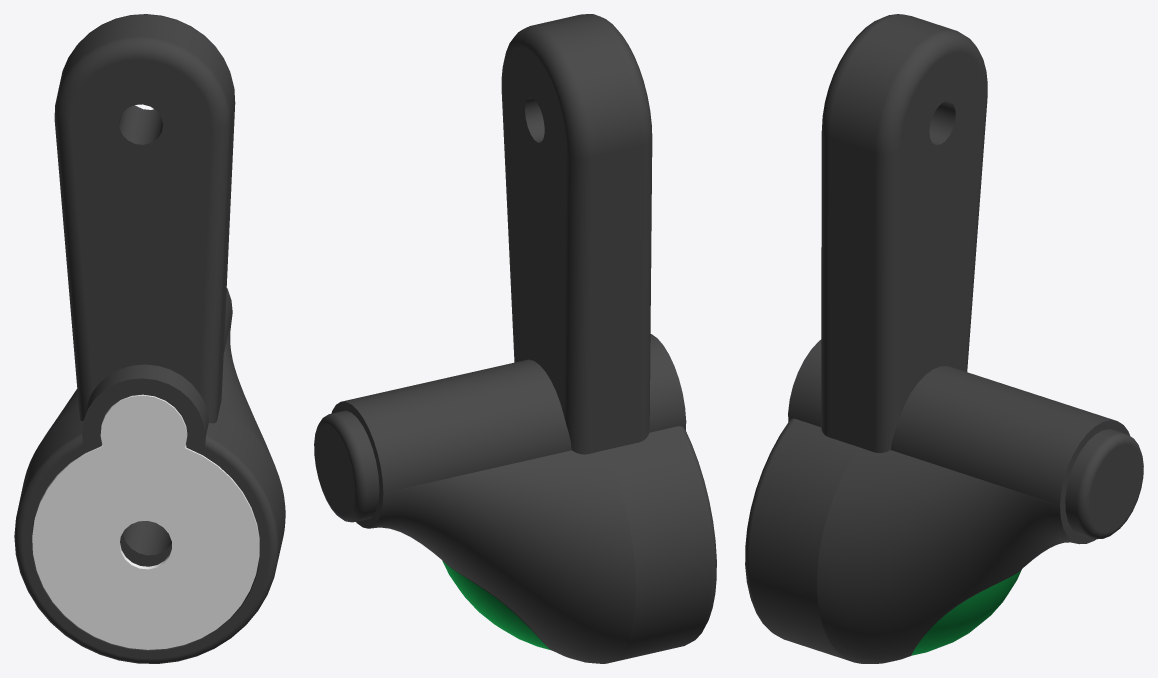
File: Leg.gltf
The picture shows the model from 3 angles, left to right: view 1: azimuth 30°, elevation 25°; view 2: azimuth 150°, elevation 25°; view 3: azimuth 270°, elevation 25°; orthographic projection. The views are drawn at different scales.
Visible parts, largest first — view 1: Solid1; view 2: Solid1; view 3: Solid1.
Part boxes in pixels (left/top/right/bottom): Solid1: left=14, top=14, right=285, bottom=663; Solid1: left=314, top=14, right=716, bottom=663; Solid1: left=745, top=14, right=1143, bottom=663.
Bounding box in the file's own units: 3.84 × 7.51 × 4.32.
